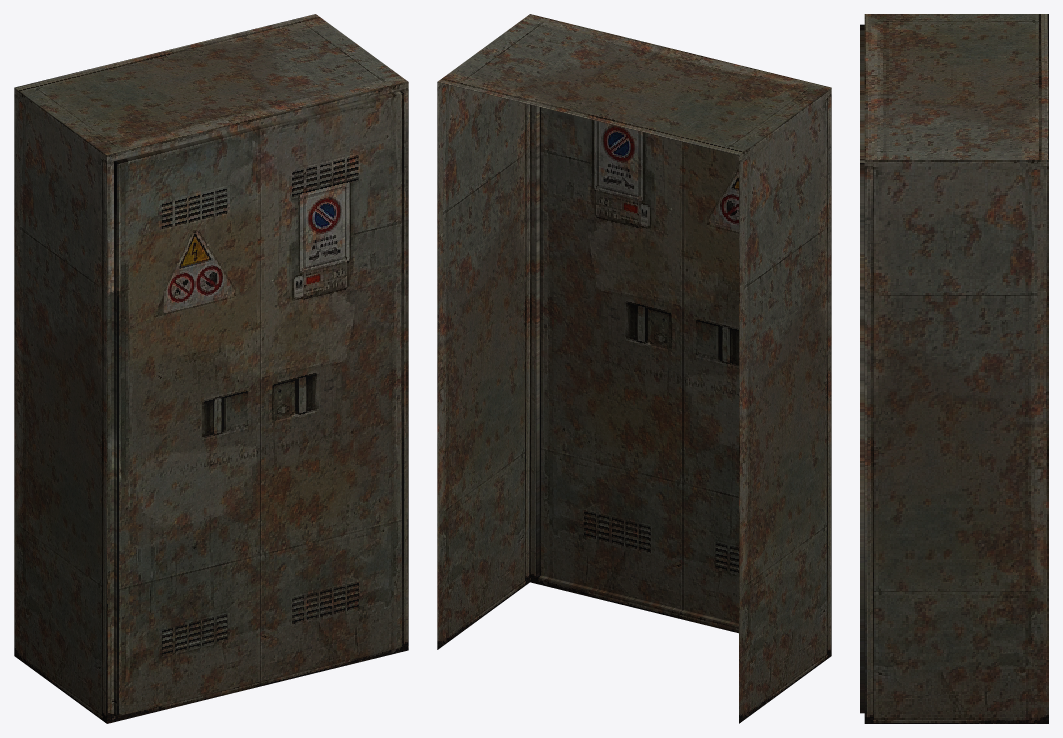
Rendered from electrical_equipment_2.glb.
The picture shows the model from 3 angles, left to right: view 1: azimuth 30°, elevation 25°; view 2: azimuth 150°, elevation 25°; view 3: azimuth 270°, elevation 25°; orthographic projection.
Parts seen in each view (by area): view 1: electrical_equipment_2; view 2: electrical_equipment_2; view 3: electrical_equipment_2.
Part boxes in pixels (box(x1,y1,x2,y2)): electrical_equipment_2: box(14, 14, 408, 723); electrical_equipment_2: box(437, 14, 831, 723); electrical_equipment_2: box(860, 14, 1048, 723).
Size of the model in its own units: 1.5 by 2.7 by 0.82.
1 material, 1 textured.
